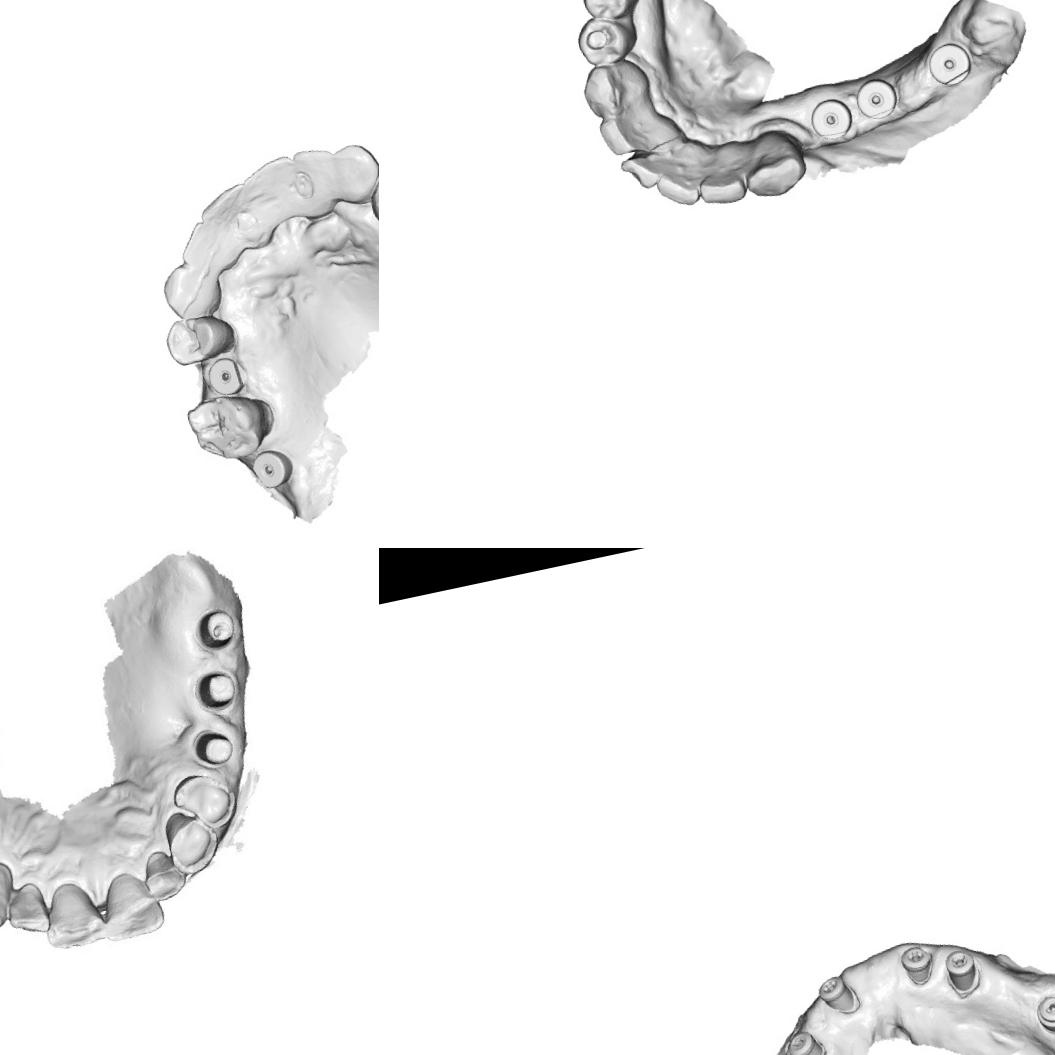abutment: (190, 664, 246, 716), (188, 722, 237, 774), (192, 604, 242, 654)
canine: (732, 123, 813, 205), (575, 52, 654, 122), (158, 256, 228, 326), (160, 806, 222, 878), (330, 137, 379, 207), (0, 858, 22, 938)
implant: (248, 443, 296, 492), (204, 352, 251, 400), (853, 76, 900, 122), (927, 42, 970, 88), (810, 96, 852, 138)
implant_minus: (784, 1025, 829, 1055), (1031, 989, 1055, 1038)
implant_plus: (940, 944, 985, 1001), (814, 970, 864, 1020), (897, 941, 939, 990)
incisor: (94, 864, 170, 944), (37, 876, 110, 958), (592, 100, 677, 164), (193, 180, 258, 255), (173, 214, 240, 280), (238, 152, 302, 218), (692, 148, 750, 212), (2, 877, 56, 942), (650, 155, 708, 213), (615, 144, 676, 196), (138, 846, 190, 904), (290, 142, 341, 201)
molar: (183, 385, 282, 468)
premolar: (167, 766, 242, 837), (160, 308, 239, 369), (571, 8, 644, 72), (575, 0, 648, 26), (363, 157, 379, 230)
